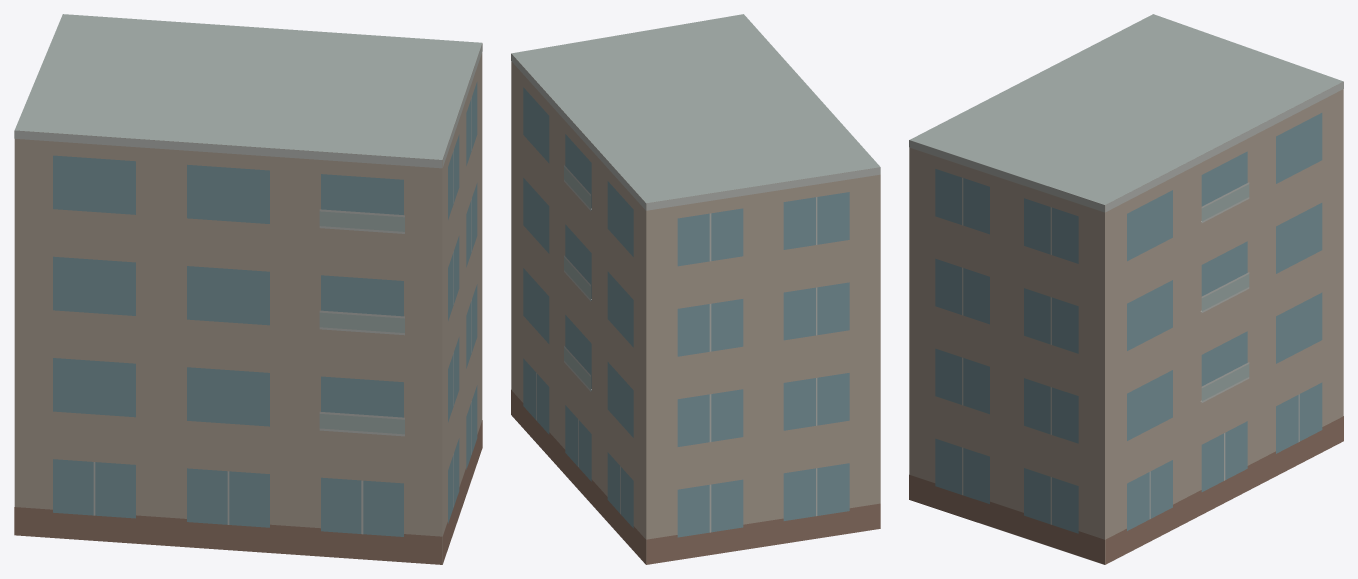
File: survey-upis-32699715.glb
3 views of the same model, side by side, from view 1: azimuth 30°, elevation 25°; view 2: azimuth 150°, elevation 25°; view 3: azimuth 270°, elevation 25° (orthographic). The views are drawn at different scales.
Parts seen in each view (by area): view 1: survey-upis-32699715.tmp; view 2: survey-upis-32699715.tmp; view 3: survey-upis-32699715.tmp.
Boxes of the visible parts, <box> form: survey-upis-32699715.tmp: <box>14,14,482,564</box>; survey-upis-32699715.tmp: <box>511,14,880,564</box>; survey-upis-32699715.tmp: <box>909,14,1343,564</box>.
Bounding box in the file's own units: 13.46 × 11.8 × 12.93.
